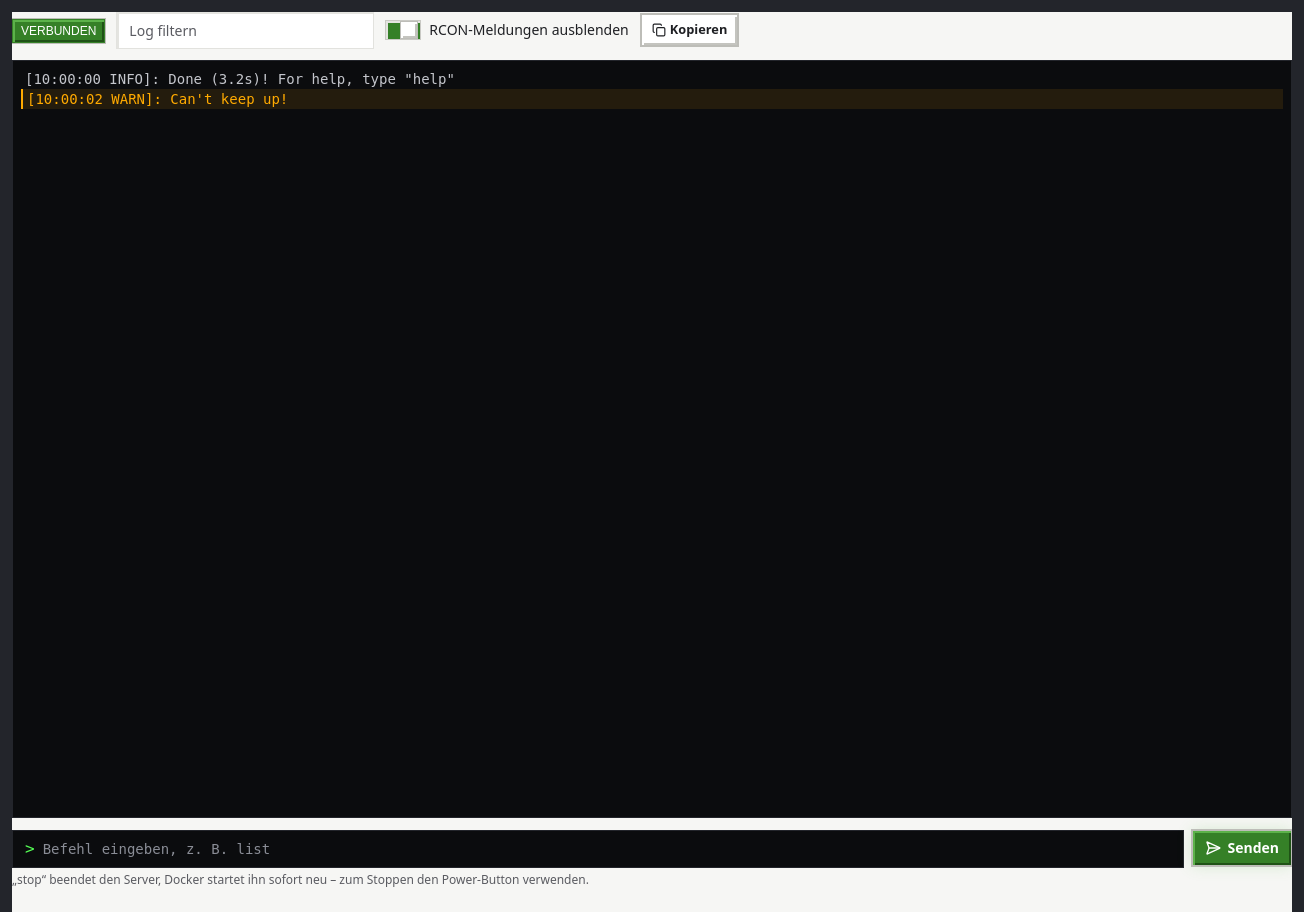
ConsoleTab › shows log lines, marks warnings and hides RCON noise until asked
Expected: the text "Verbunden" is shown, top-left (12, 19), bottom-right (105, 43)
Expected: the text "[10:00:00 INFO]: Done (3.2s)! For help, type \"help\"" is shown, top-left (25, 71), bottom-right (455, 87)
Click the switch named "RCON-Meldungen ausblenden" at coordinates (403, 30), box top-left (385, 20), bottom-right (421, 40)
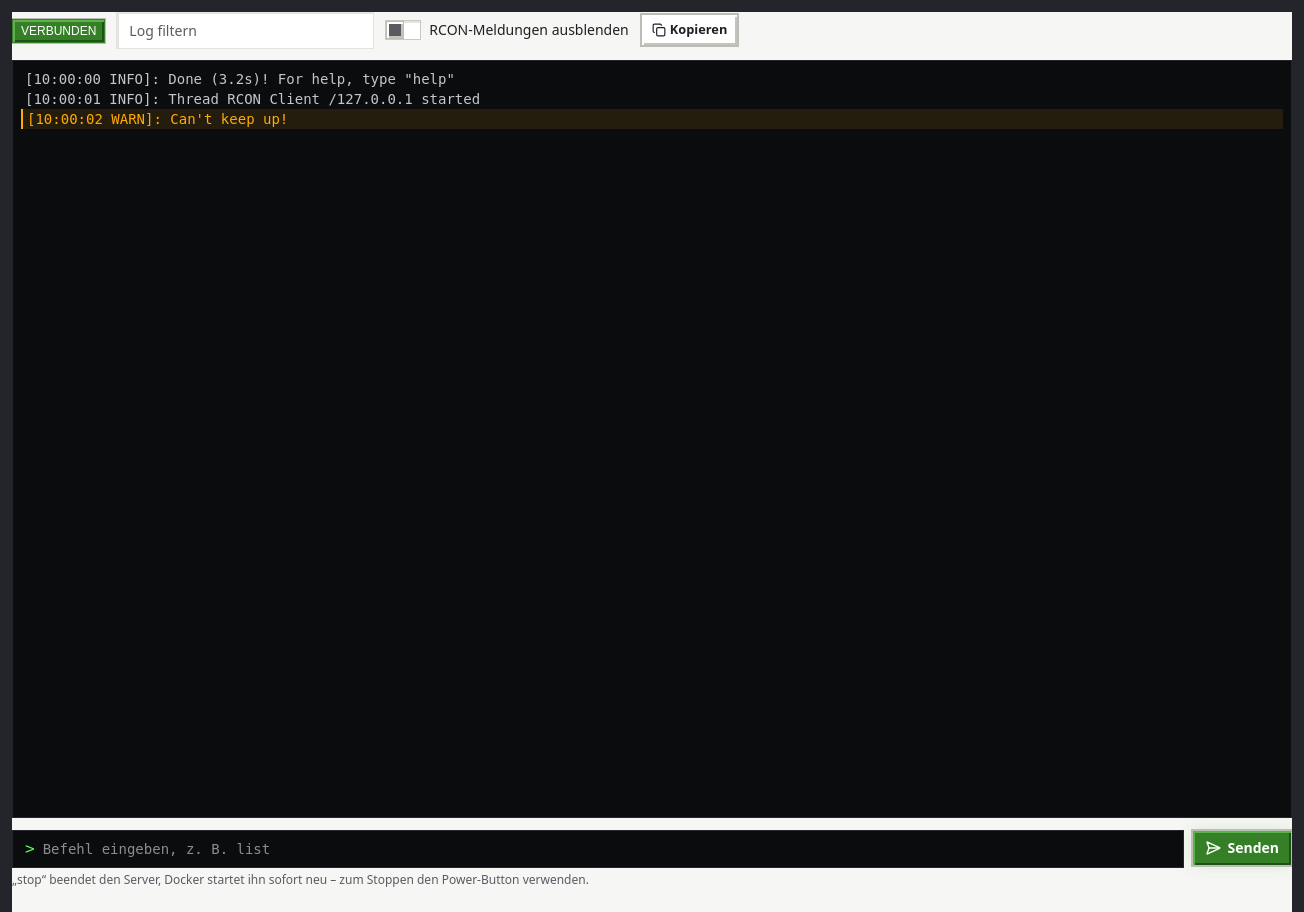
Expected: the text "[10:00:01 INFO]: Thread RCON Client /127.0.0.1 started" is shown, top-left (25, 91), bottom-right (480, 107)
